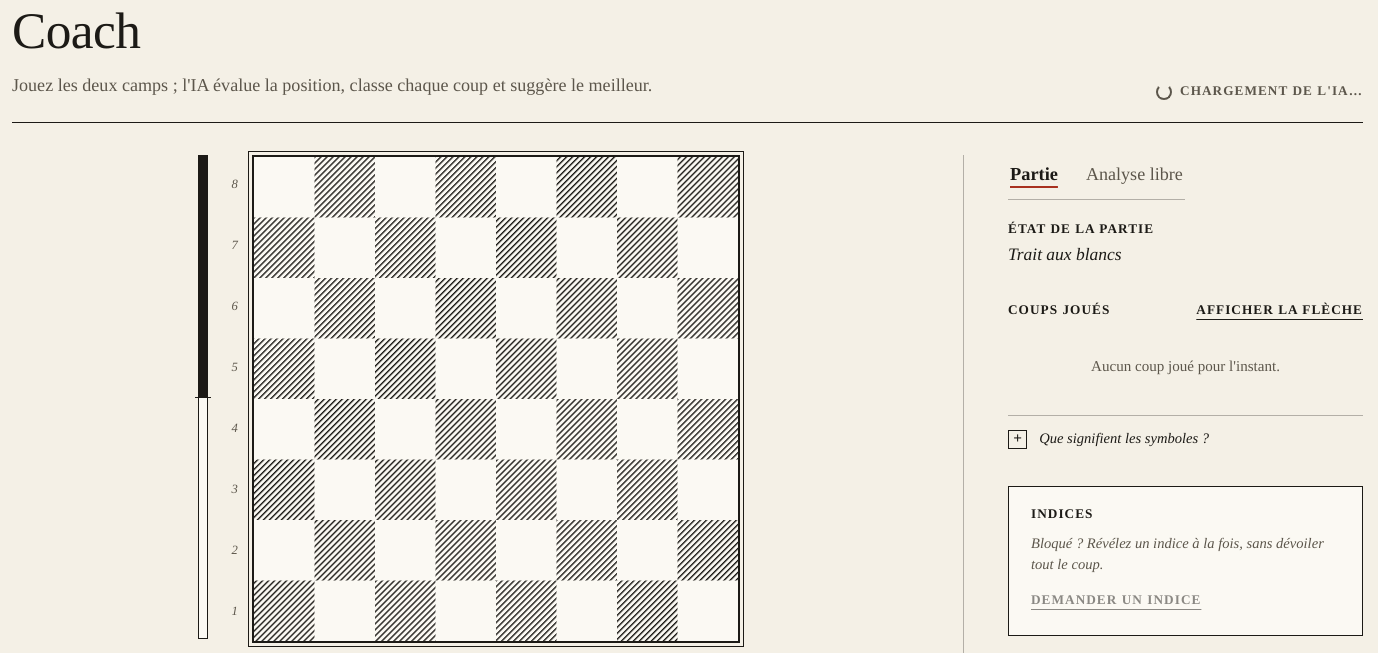
CoachPage free analysis › loads a pasted FEN as the starting position
Step 1. Click the radio button labelled "Analyse libre" → (1134, 177), box top-left (1084, 155), bottom-right (1185, 199)
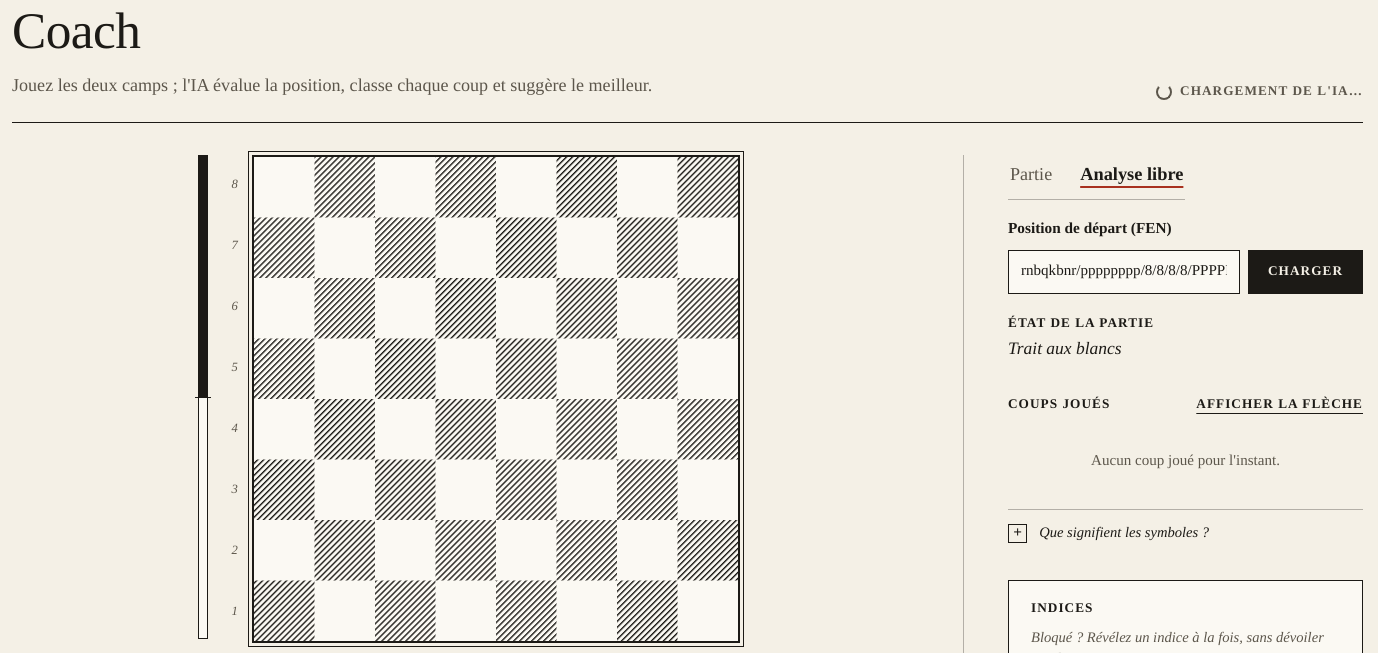
// Position after 1.e4 — Black to move.
Step 2. Type "rnbqkbnr/pppppppp/8/8/4P3/8/PPPP1PPP/RNBQKBNR b KQkq e3 0 1" into the field labelled "Position de départ (FEN)" → (1124, 272), box top-left (1008, 250), bottom-right (1240, 294)
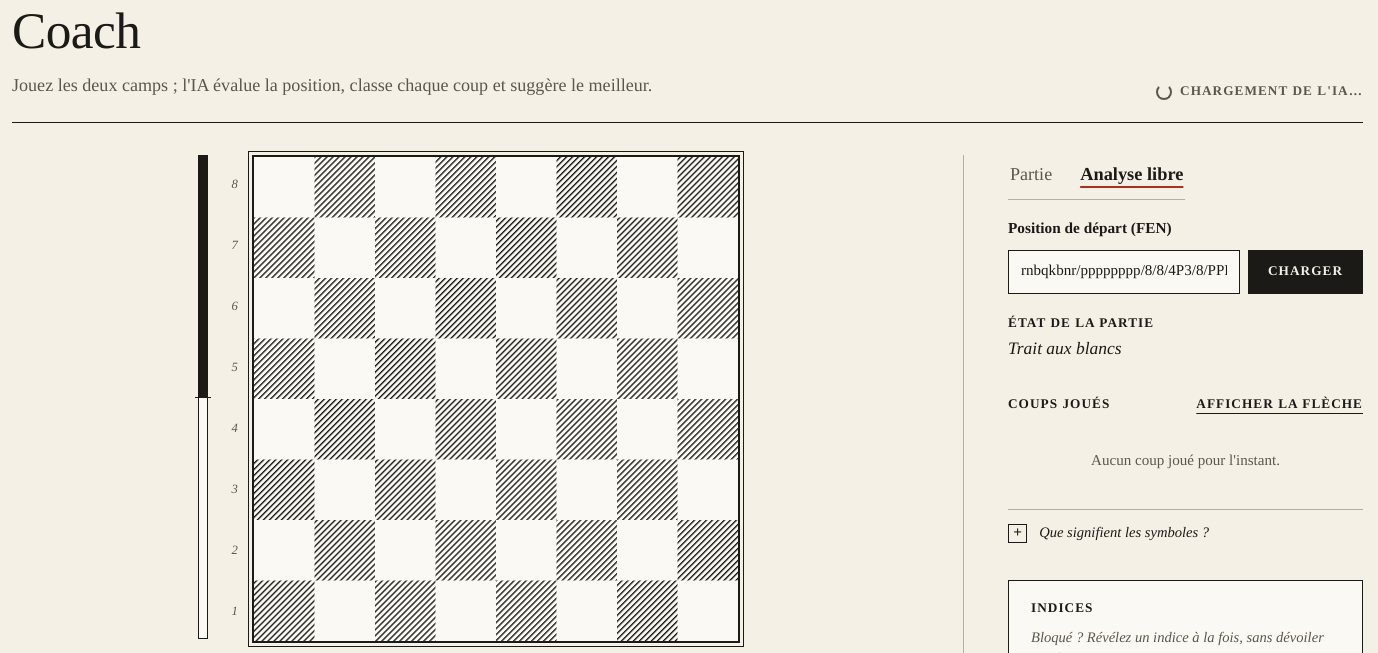
Step 3. Click the button "Charger" → (1306, 272), box top-left (1248, 250), bottom-right (1363, 294)
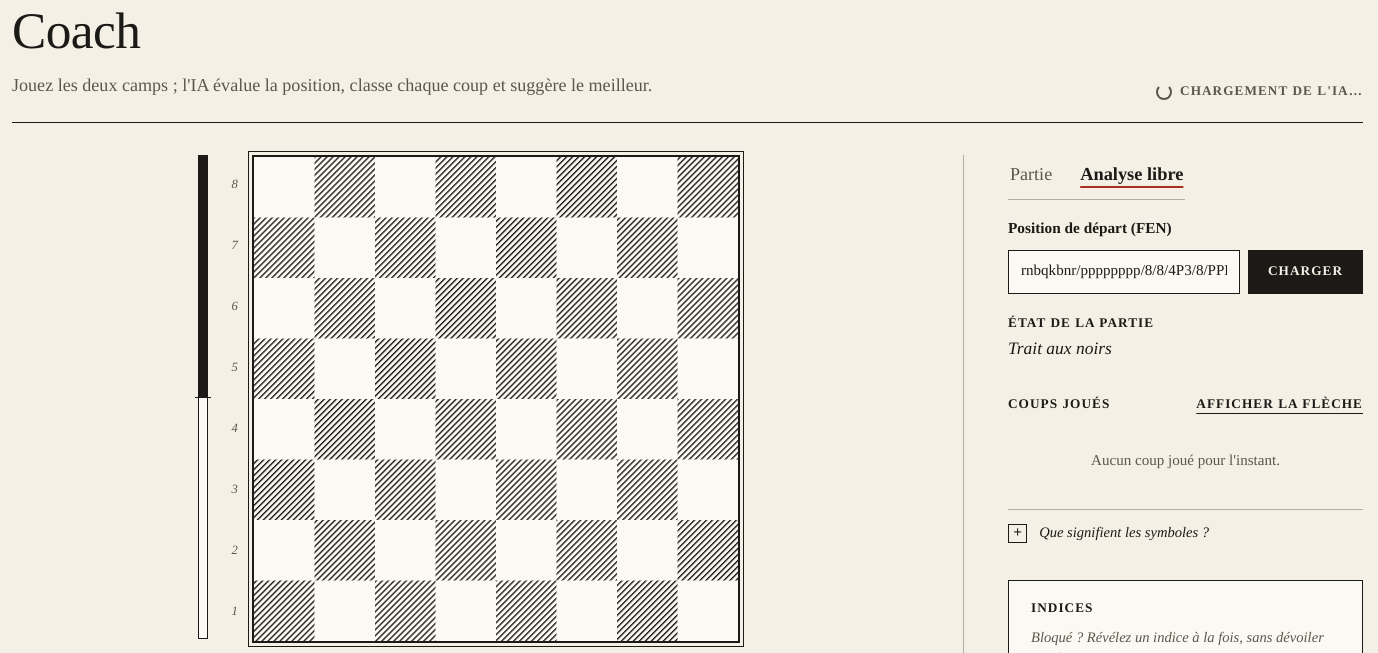
Expected: the text "Trait aux noirs" is shown, top-left (1008, 341), bottom-right (1112, 359)
